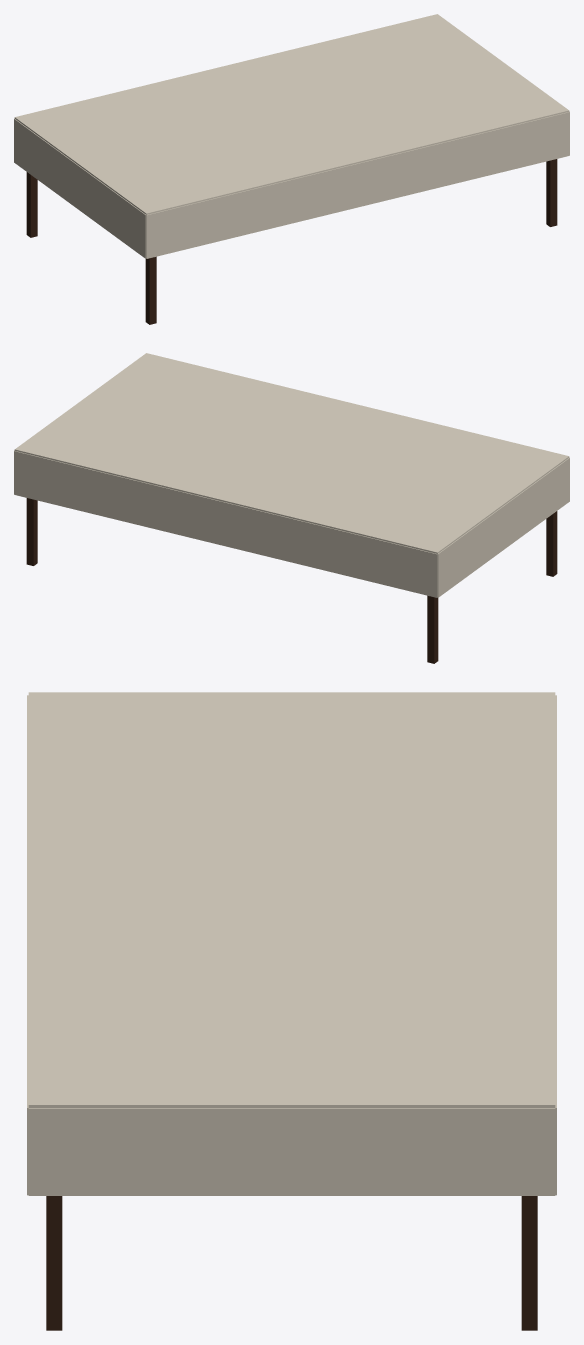
Rendered from table_dining.fbx.
The picture shows the model from 3 angles, top to bottom: view 1: azimuth 30°, elevation 25°; view 2: azimuth 150°, elevation 25°; view 3: azimuth 270°, elevation 25°; orthographic projection. The views are drawn at different scales.
Visible parts, largest first — view 1: tablecloth, table_dining; view 2: tablecloth, table_dining; view 3: tablecloth, table_dining.
Boxes of the visible parts, x1,y1,x2,y2 form: tablecloth: (14, 14, 569, 258); table_dining: (26, 159, 557, 324); tablecloth: (14, 353, 569, 597); table_dining: (26, 498, 557, 663); tablecloth: (27, 692, 556, 1195); table_dining: (46, 1196, 537, 1330).
Size of the model in its own units: 3.05 by 0.8 by 1.65.
